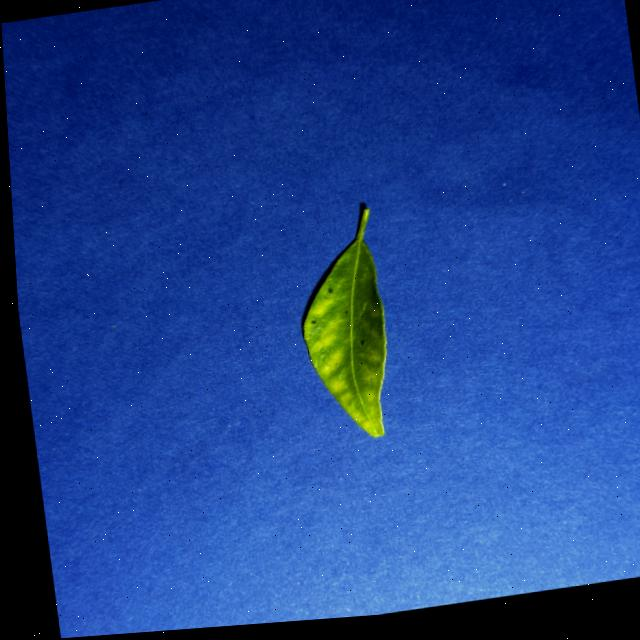greening: (302, 209, 384, 435)
